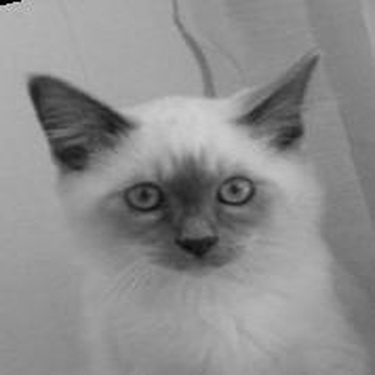cat: (19, 46, 354, 363)
